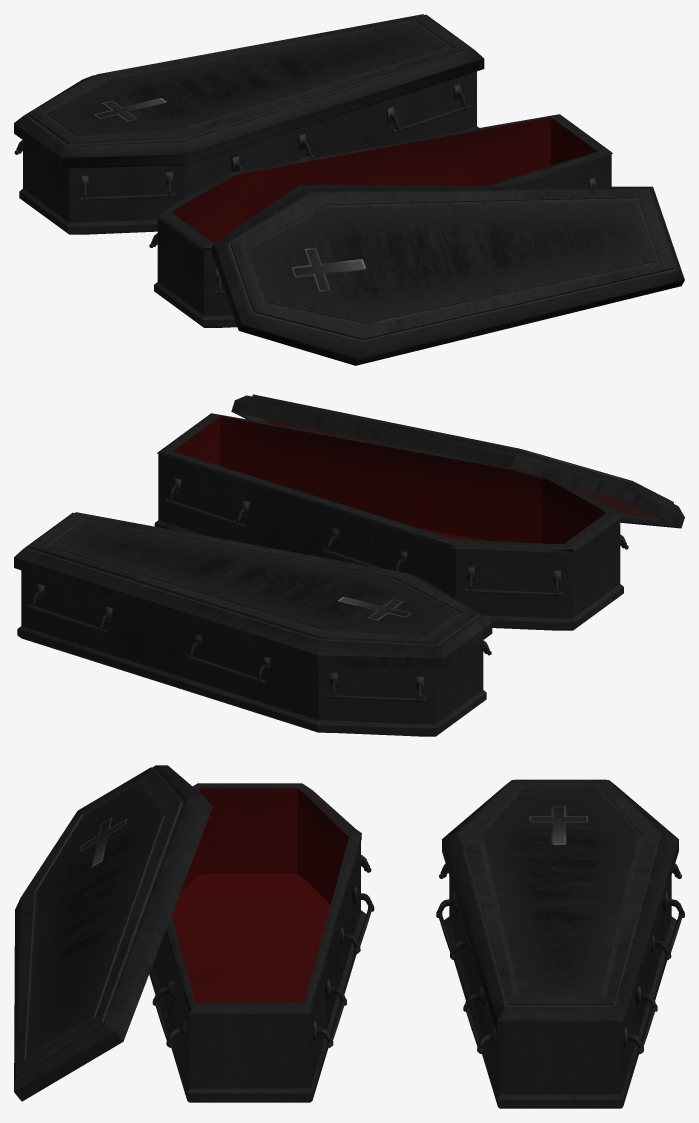
File: sketch fab coffin.fbx
The picture shows the model from 3 angles, top to bottom: view 1: azimuth 30°, elevation 25°; view 2: azimuth 150°, elevation 25°; view 3: azimuth 270°, elevation 25°; orthographic projection. The views are drawn at different scales.
Parts seen in each view (by area): view 1: lid1, lid, coffin2, coffin; view 2: coffin2, lid, coffin, lid1; view 3: coffin2, lid, lid1, coffin.
Part boxes in pixels (x1,y1,x2,y2): lid1: [211, 185, 684, 365]; lid: [14, 14, 484, 168]; coffin2: [149, 114, 612, 327]; coffin: [14, 71, 478, 234]; coffin2: [154, 413, 628, 630]; lid: [14, 512, 492, 669]; coffin: [17, 570, 491, 736]; lid1: [231, 394, 684, 528]; coffin2: [149, 783, 374, 1102]; lid: [442, 779, 678, 1032]; lid1: [14, 765, 212, 1101]; coffin: [436, 863, 684, 1108].
Size of the model in its own units: 5.54 by 1.5 by 6.54.
Materials: 3 (3 with a texture image).
